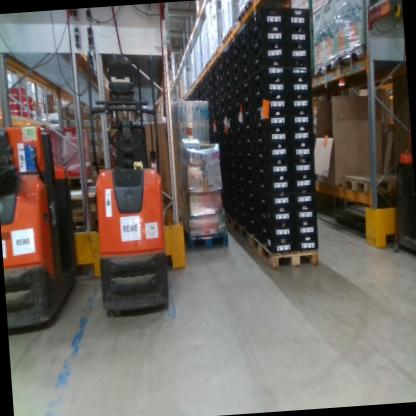pallet: (248, 228, 315, 266), (336, 164, 398, 195), (180, 215, 232, 251), (336, 37, 381, 71), (312, 54, 340, 81), (231, 216, 252, 244), (223, 207, 234, 230)
pallet_truck: (71, 34, 182, 313), (0, 109, 91, 332)
